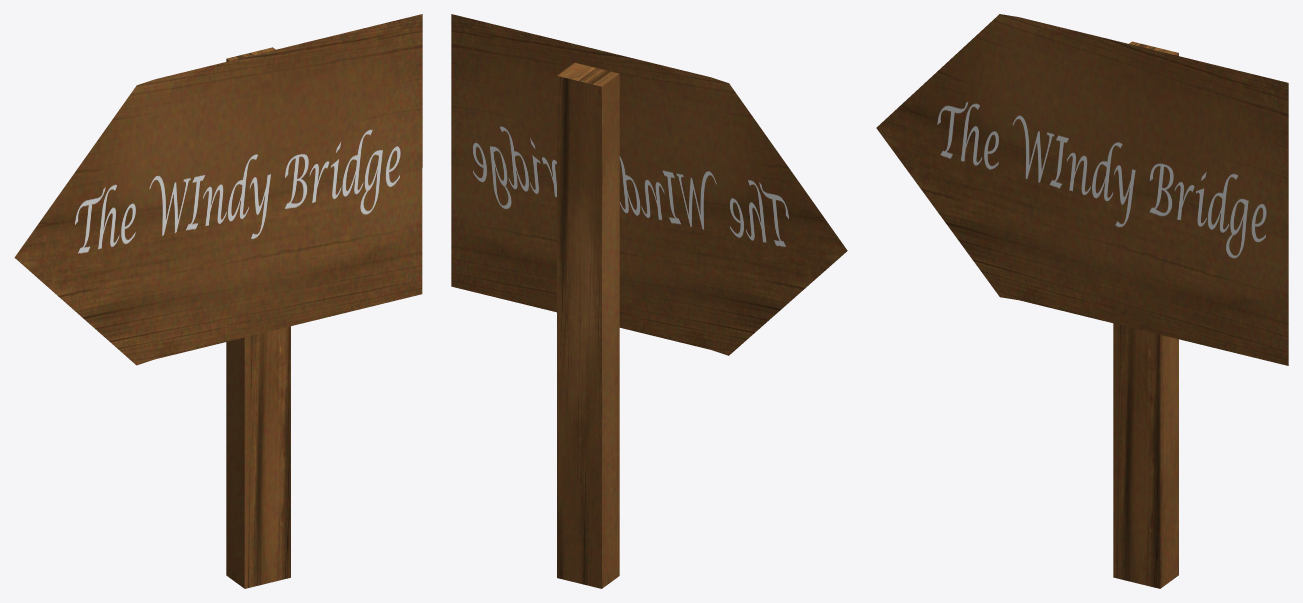
The model's file is Bord_Windy.fbx.
The picture shows the model from 3 angles, left to right: view 1: azimuth 30°, elevation 25°; view 2: azimuth 150°, elevation 25°; view 3: azimuth 330°, elevation 25°; orthographic projection. The views are drawn at different scales.
Visible parts, largest first — view 1: polySurface2; view 2: polySurface2; view 3: polySurface2.
Boxes of the visible parts, x1,y1,x2,y2 form: polySurface2: [14, 14, 422, 588]; polySurface2: [451, 14, 847, 588]; polySurface2: [876, 14, 1288, 588].
Size of the model in its own units: 7.71 by 9.64 by 0.6772.
1 material, 1 textured.
